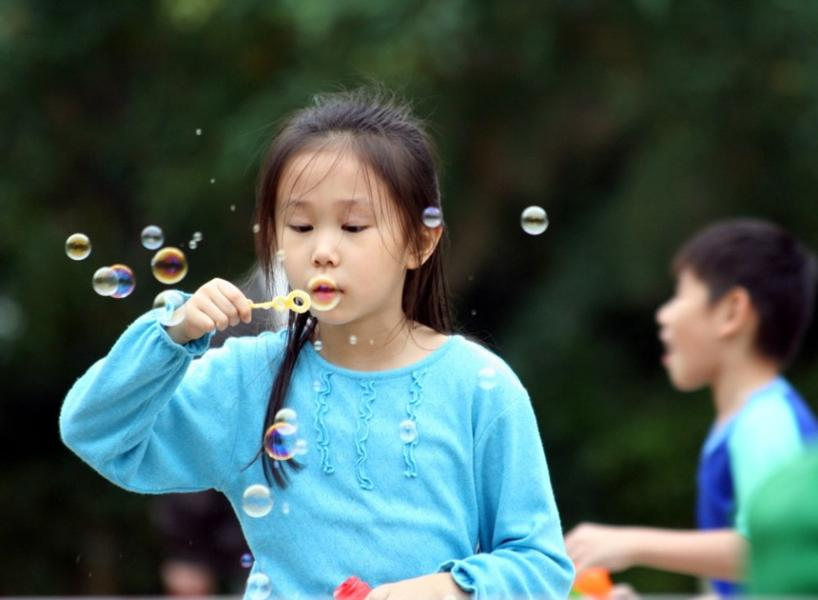person: (56, 91, 576, 599)
